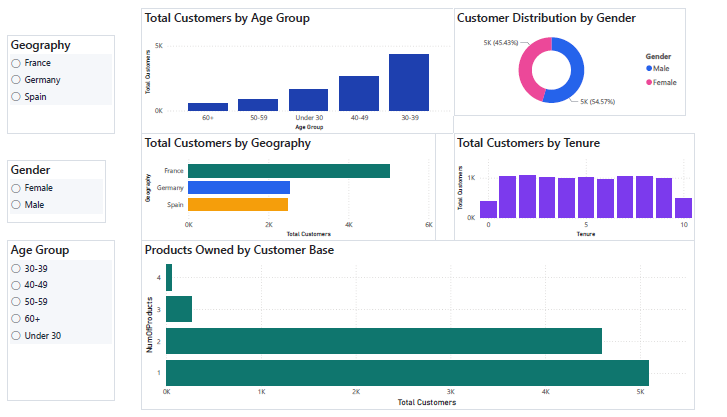

Layout of this report page (visuals, bound fields, positions):
{"tool":"powerbi","page":{"name":"Customer Demographics","canvas":[1280,720],"ordinal":1},"visuals":[{"type":"columnChart","fields":{"Y":["BankCustomers.Total Customers"],"Category":["BankCustomers.Age Group"]},"box":[240,0,560,224],"z":0},{"type":"donutChart","title":"Customer Distribution by Gender","fields":{"Y":["BankCustomers.Total Customers"],"Category":["BankCustomers.Gender"]},"box":[800,0,416,192],"z":1000},{"type":"clusteredBarChart","fields":{"Y":["BankCustomers.Total Customers"],"Category":["BankCustomers.Geography"]},"box":[240,224,528,192],"z":2000},{"type":"clusteredColumnChart","fields":{"Y":["BankCustomers.Total Customers"],"Category":["BankCustomers.Tenure"]},"box":[800,224,432,192],"z":3000},{"type":"barChart","title":"Products Owned by Customer Base","fields":{"Y":["BankCustomers.Total Customers"],"Category":["BankCustomers.NumOfProducts"]},"box":[240,416,992,304],"z":4000},{"type":"listSlicer","fields":{"Values":["BankCustomers.Geography"]},"box":[0,48,192,176],"z":5000},{"type":"listSlicer","fields":{"Values":["BankCustomers.Gender"]},"box":[0,272,176,112],"z":6000},{"type":"listSlicer","fields":{"Values":["BankCustomers.Age Group"]},"box":[0,416,192,288],"z":7000}]}

Visuals, with their boxes in screenshot pixels (x1, y1, x2, y2), scaled from the page's 1280x720 canvas onto the 727x417 screenshot:
columnChart - BankCustomers.Total Customers x BankCustomers.Age Group: box(136, 0, 454, 130)
"Customer Distribution by Gender" donutChart: box(454, 0, 691, 111)
clusteredBarChart - BankCustomers.Total Customers x BankCustomers.Geography: box(136, 130, 436, 241)
clusteredColumnChart - BankCustomers.Total Customers x BankCustomers.Tenure: box(454, 130, 700, 241)
"Products Owned by Customer Base" barChart: box(136, 241, 700, 416)
listSlicer - BankCustomers.Geography: box(0, 28, 109, 130)
listSlicer - BankCustomers.Gender: box(0, 158, 100, 222)
listSlicer - BankCustomers.Age Group: box(0, 241, 109, 408)
